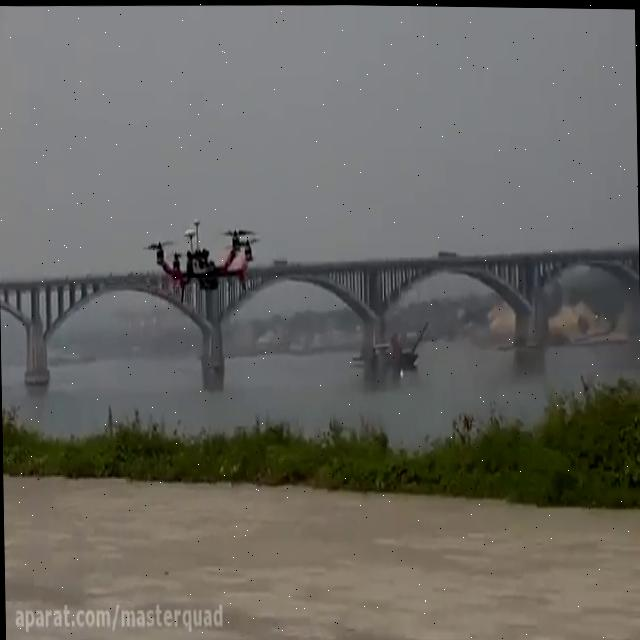drone: (139, 211, 265, 303)
